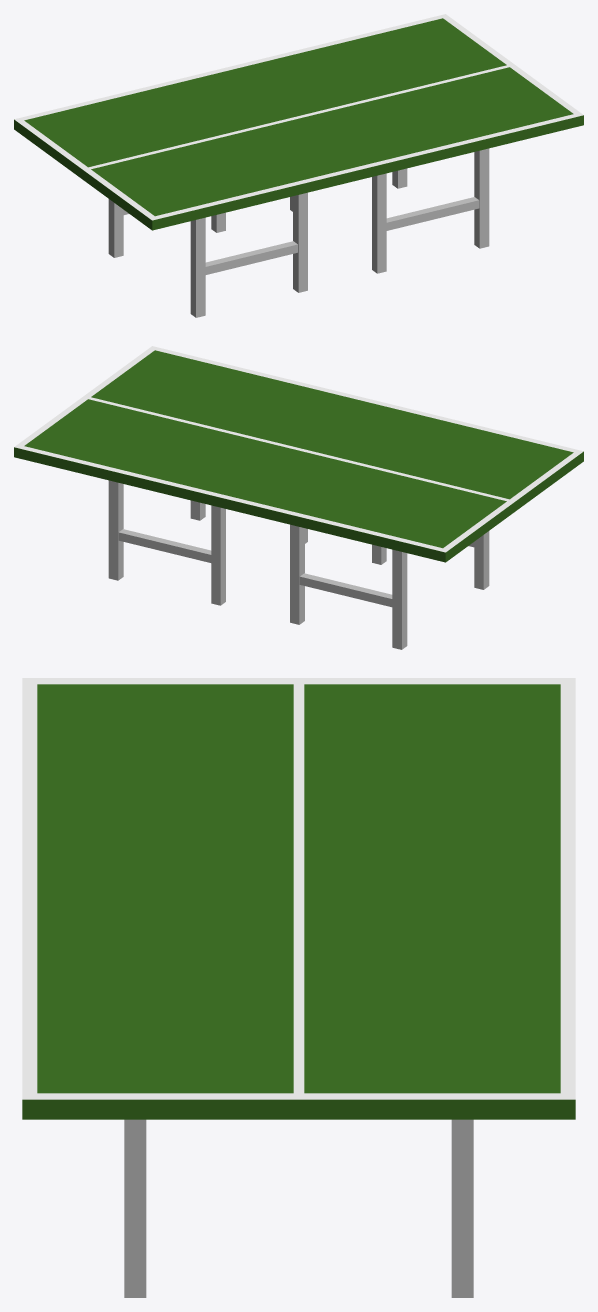
The model's file is Pong_Table.fbx.
3 renders of one model, top to bottom at view 1: azimuth 30°, elevation 25°; view 2: azimuth 150°, elevation 25°; view 3: azimuth 270°, elevation 25°, orthographic. The views are drawn at different scales.
Visible parts, largest first — view 1: Pong_Table; view 2: Pong_Table; view 3: Pong_Table.
Part boxes in pixels (<box>): Pong_Table: <box>14,14,583,317</box>; Pong_Table: <box>14,346,583,649</box>; Pong_Table: <box>22,678,575,1297</box>.
Bounding box in the file's own units: 274 × 80.65 × 152.
